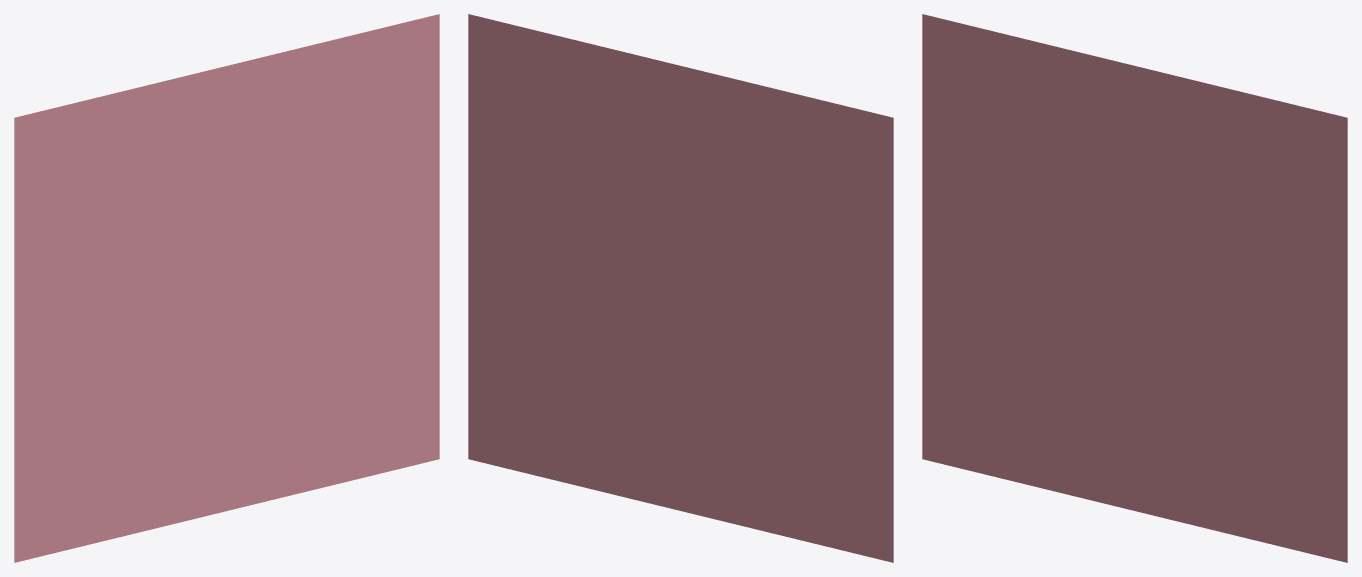
Rendered from paret_4_intento.fbx.
The picture shows the model from 3 angles, left to right: view 1: azimuth 30°, elevation 25°; view 2: azimuth 150°, elevation 25°; view 3: azimuth 330°, elevation 25°; orthographic projection.
Visible parts, largest first — view 1: Plane; view 2: Plane; view 3: Plane.
Part boxes in pixels (<box>): Plane: <box>14,14,439,562</box>; Plane: <box>468,14,893,562</box>; Plane: <box>922,14,1347,562</box>.
Size of the model in its own units: 400 by 400 by 1.75e-05.
